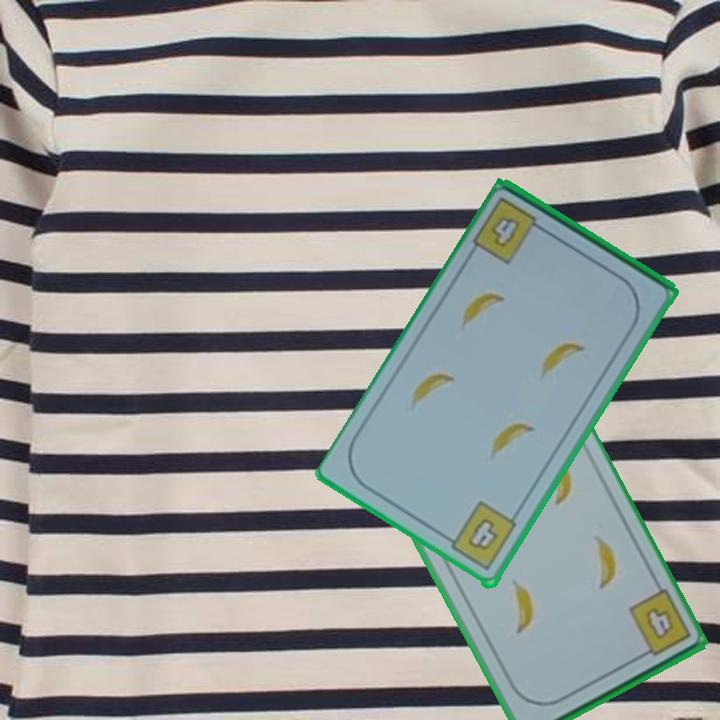4b: (440, 498, 520, 575), (469, 194, 552, 268), (624, 585, 694, 663)
